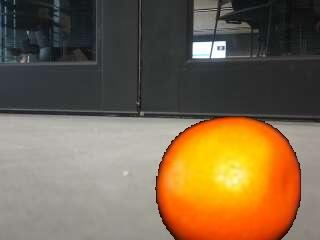Orange: (155, 117, 302, 240)
